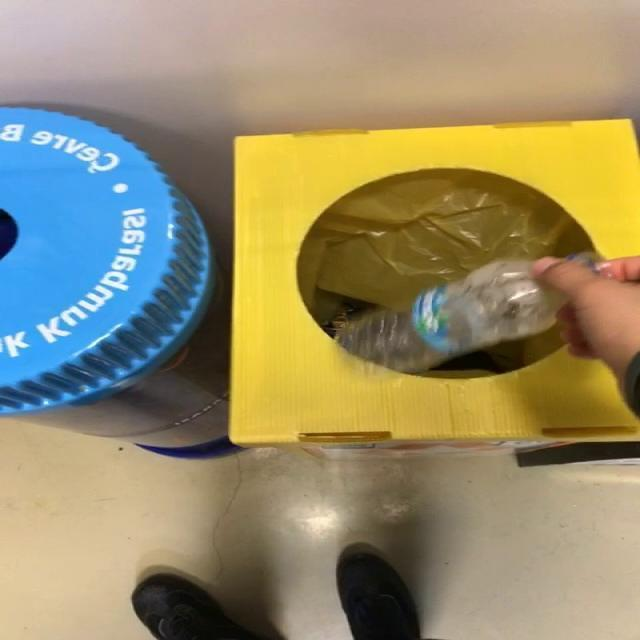Plastic: (337, 260, 568, 372)
